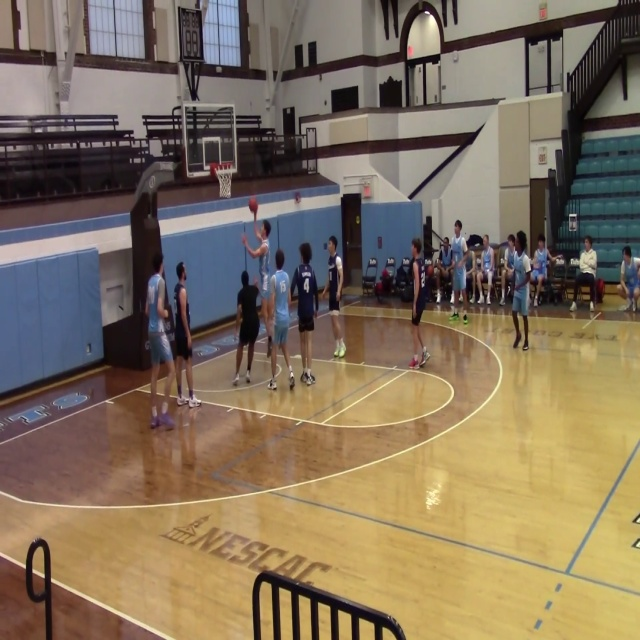Basketball: (248, 197, 257, 212), (294, 192, 301, 203)
